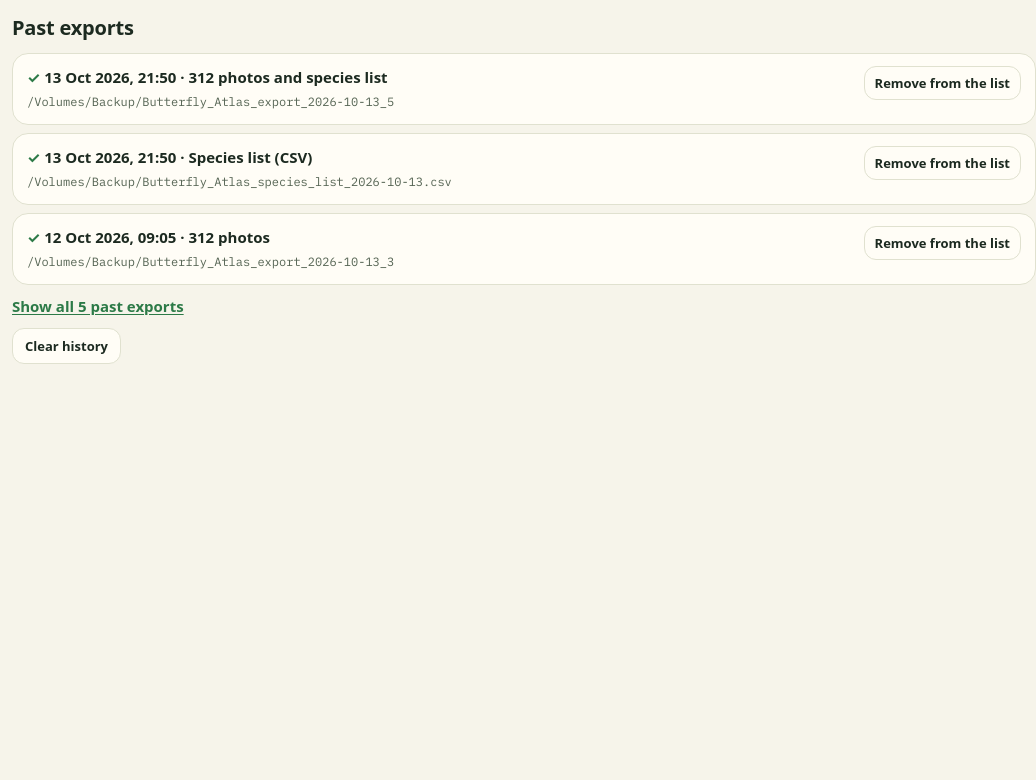
Test case: each past export: done with the date it ended and what, or where it was cancelled and what became of the files; then the path
Expected: the heading "Past exports" is shown, [12,14,134,41]
Click the button "Show all 5 past exports". click: point(98, 306)
box: [12,294,184,318]
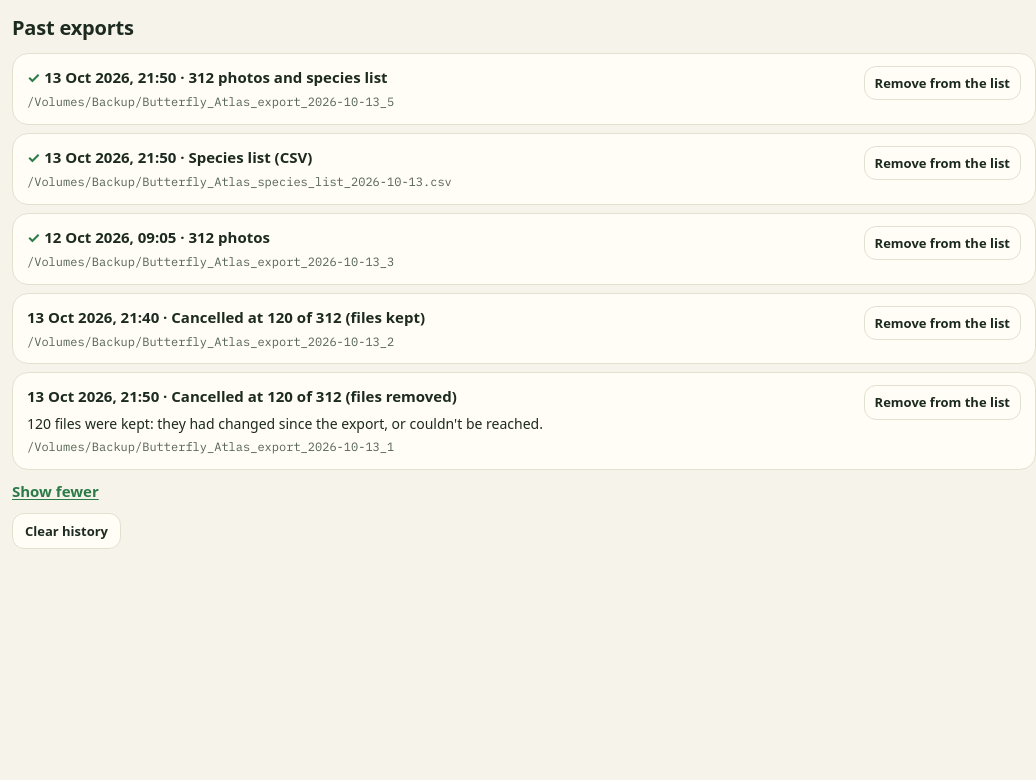
Expected: the 1st text "✓" is shown, [27,67,44,87]
Now the number of buttons "Remove from the list" is 5, box [864,66,1021,100]; [864,146,1021,180]; [864,226,1021,260]; [864,306,1021,340]; [864,385,1021,420]
